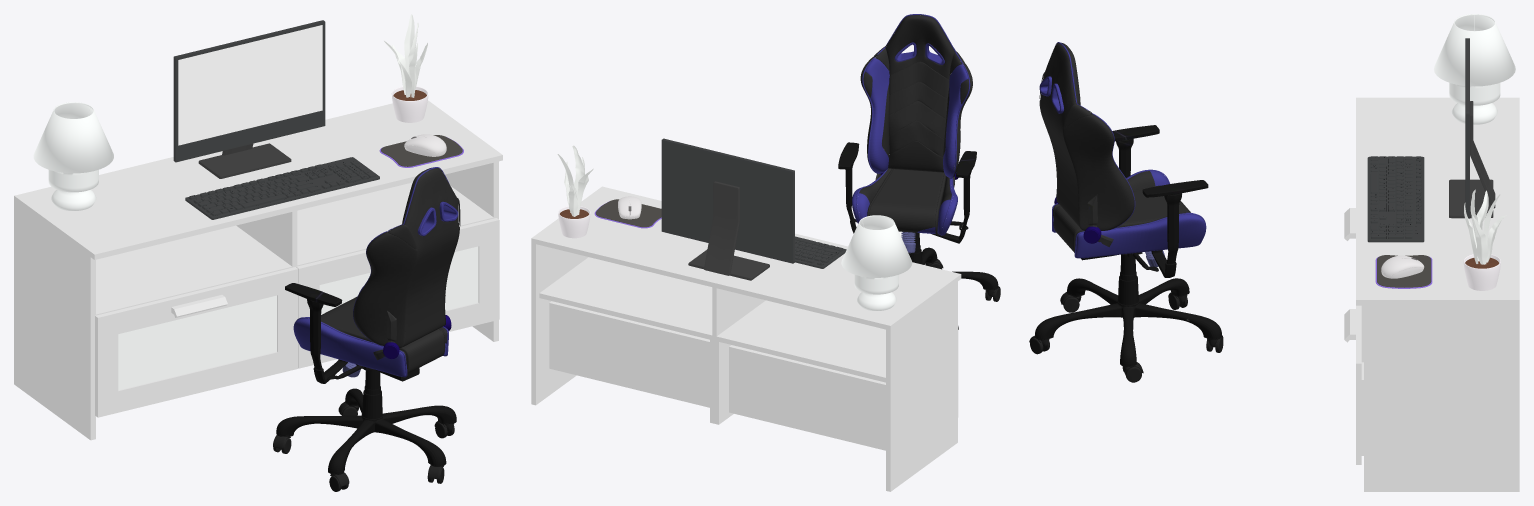
Rendered from setup-optimized-transformed.glb.
3 renders of one model, left to right at view 1: azimuth 30°, elevation 25°; view 2: azimuth 150°, elevation 25°; view 3: azimuth 270°, elevation 25°, orthographic. The views are drawn at different scales.
Visible parts, largest first — view 1: bureau, _Group10, Cube.003; view 2: bureau, _Group10; view 3: bureau, _Group10, Cube.003.
Boxes of the visible parts, box(x1,y1,x2,y2) form: bureau: box(14, 14, 502, 440); _Group10: box(273, 167, 460, 491); Cube.003: box(404, 134, 446, 156); bureau: box(531, 138, 961, 491); _Group10: box(838, 14, 1000, 329); bureau: box(1344, 14, 1519, 491); _Group10: box(1029, 42, 1223, 382); Cube.003: box(1381, 255, 1424, 278).
Bounding box in the file's own units: 1.2 × 0.934 × 1.23.
6 materials, 6 textured.
